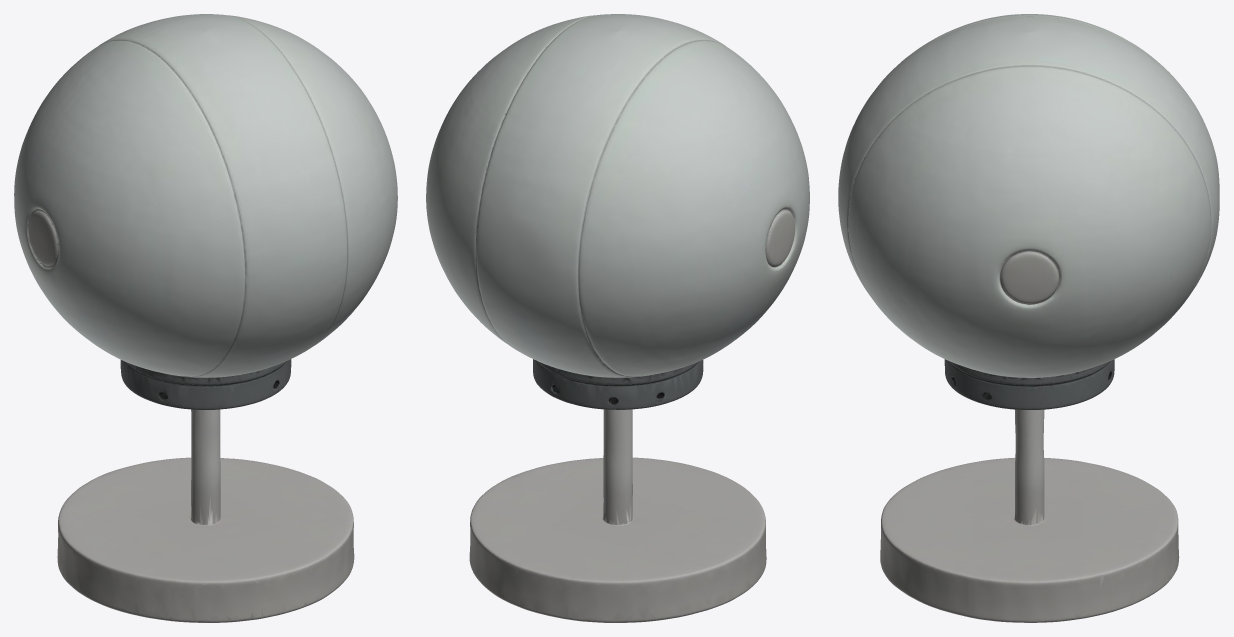
The model's file is smart-lamp.glb.
3 renders of one model, left to right at view 1: azimuth 30°, elevation 25°; view 2: azimuth 150°, elevation 25°; view 3: azimuth 270°, elevation 25°, orthographic.
Parts seen in each view (by area): view 1: tripo_node_03e9b9ef-b78b-406f-8afd-cfe1151c2560; view 2: tripo_node_03e9b9ef-b78b-406f-8afd-cfe1151c2560; view 3: tripo_node_03e9b9ef-b78b-406f-8afd-cfe1151c2560.
Part boxes in pixels (left/top/right/bottom): tripo_node_03e9b9ef-b78b-406f-8afd-cfe1151c2560: left=14, top=14, right=397, bottom=622; tripo_node_03e9b9ef-b78b-406f-8afd-cfe1151c2560: left=426, top=14, right=809, bottom=622; tripo_node_03e9b9ef-b78b-406f-8afd-cfe1151c2560: left=838, top=14, right=1219, bottom=622.
Bounding box in the file's own units: 0.6493 × 1 × 0.6491.
1 material, 1 textured.
